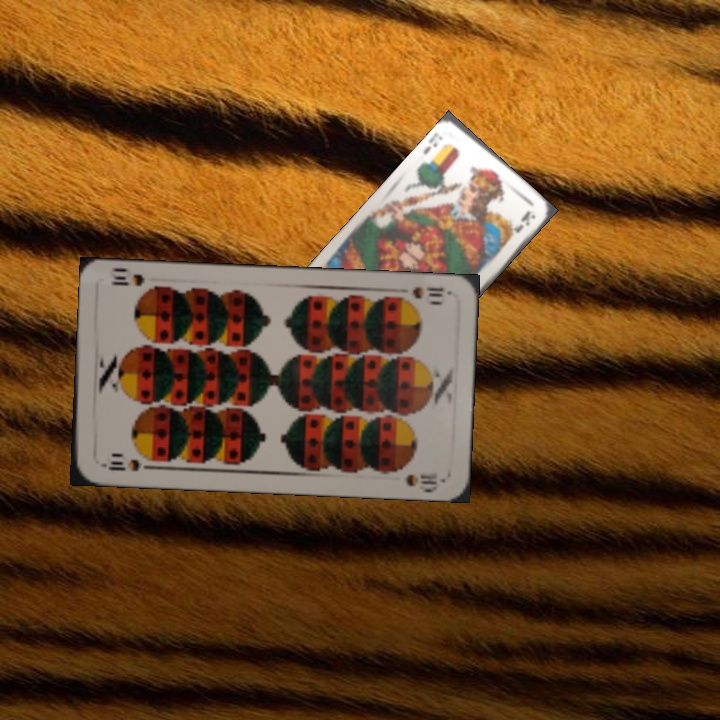EK: (419, 132, 445, 157)
S10: (393, 283, 453, 306), (96, 455, 143, 474)
